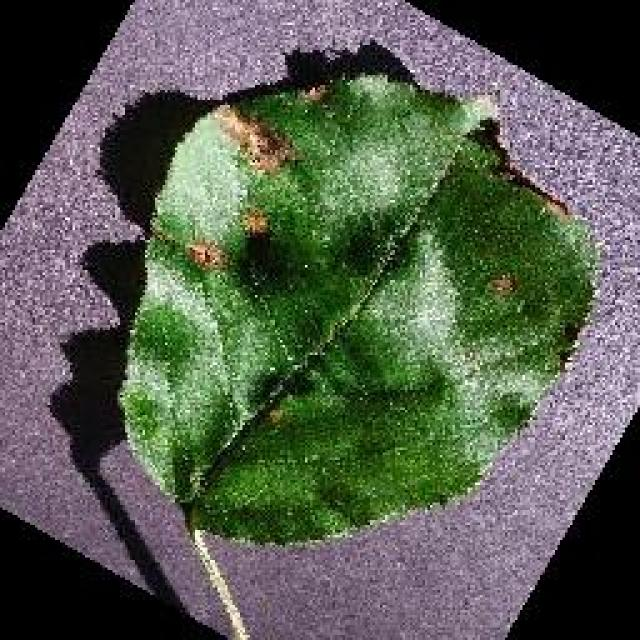apple black rot: (108, 55, 602, 547)
